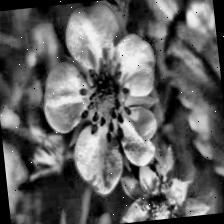Blossom Blight: (70, 58, 139, 148), (127, 174, 191, 222)
